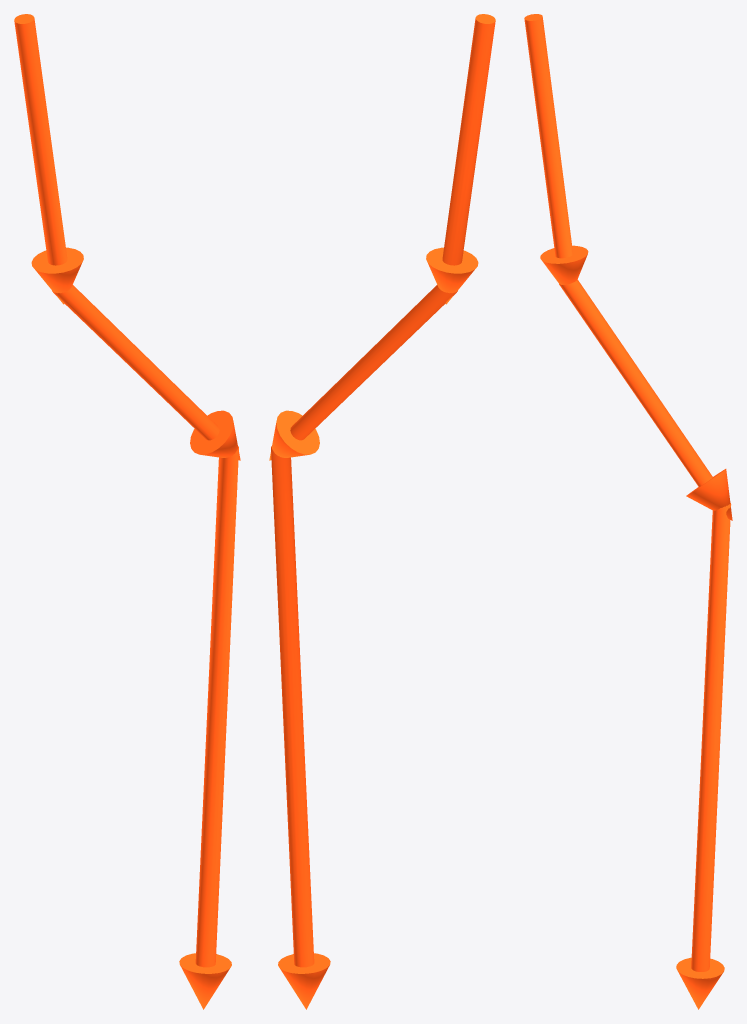
Rendered from cone_crusher_flow.glb.
The picture shows the model from 3 angles, left to right: view 1: azimuth 30°, elevation 25°; view 2: azimuth 150°, elevation 25°; view 3: azimuth 330°, elevation 25°; orthographic projection. The views are drawn at different scales.
Parts seen in each view (by area): view 1: material; view 2: material; view 3: material.
Boxes of the visible parts, left/top/right/bottom form: material: left=14, top=14, right=240, bottom=1009; material: left=269, top=14, right=495, bottom=1009; material: left=524, top=14, right=732, bottom=1009.
Bounding box in the file's own units: 0.3825 × 1.68 × 0.078.
